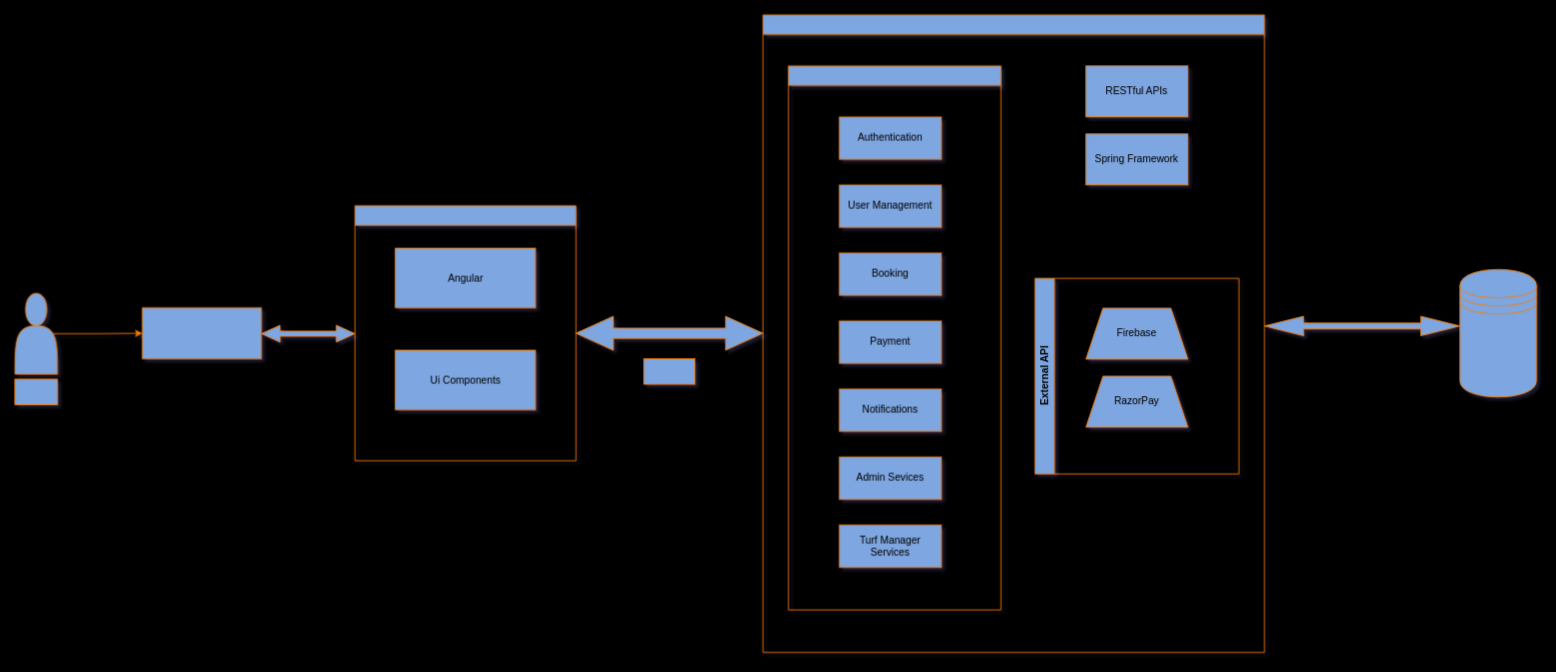
Some shapes in this 1556 by 672 pixel diagram are drawn without their labels. Here are the shapes that lost their labels. From the top down, the box of each, then its label:
(142, 307, 261, 359): Web App / Mobile App
(354, 205, 576, 461): Frontend
(788, 65, 1001, 610): Microservices
(762, 14, 1264, 652): Backend
(1459, 269, 1536, 397): MySQL DB
(643, 358, 695, 384): HTTPS
(14, 378, 57, 405): User
